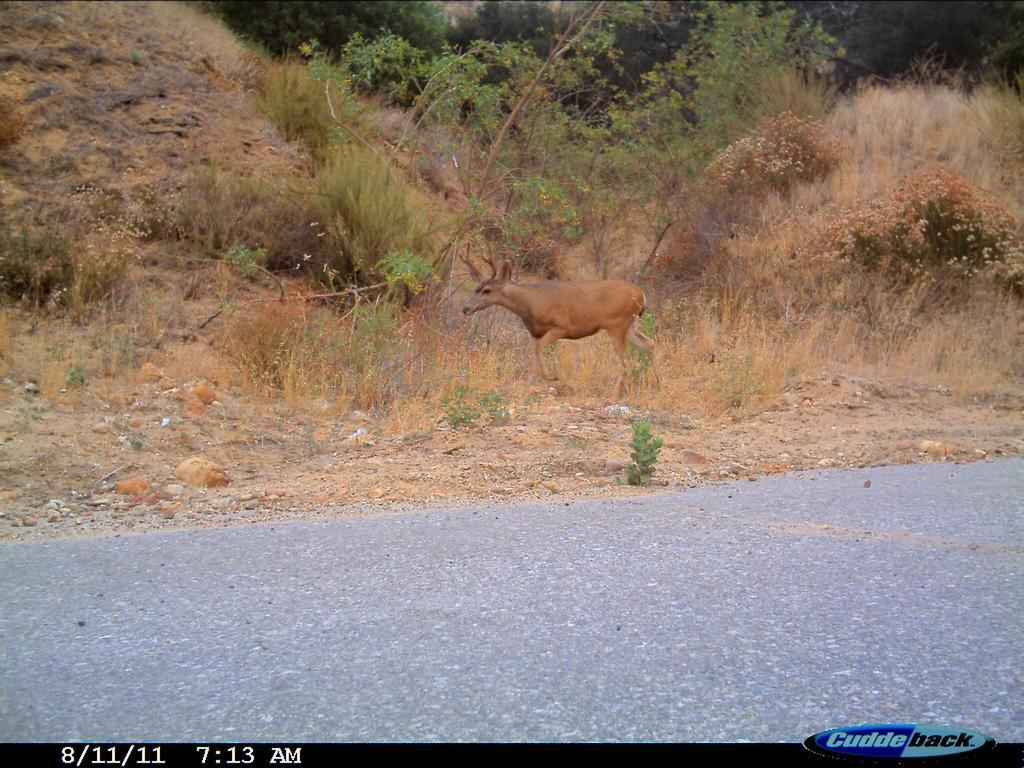deer: (423, 233, 683, 410)
